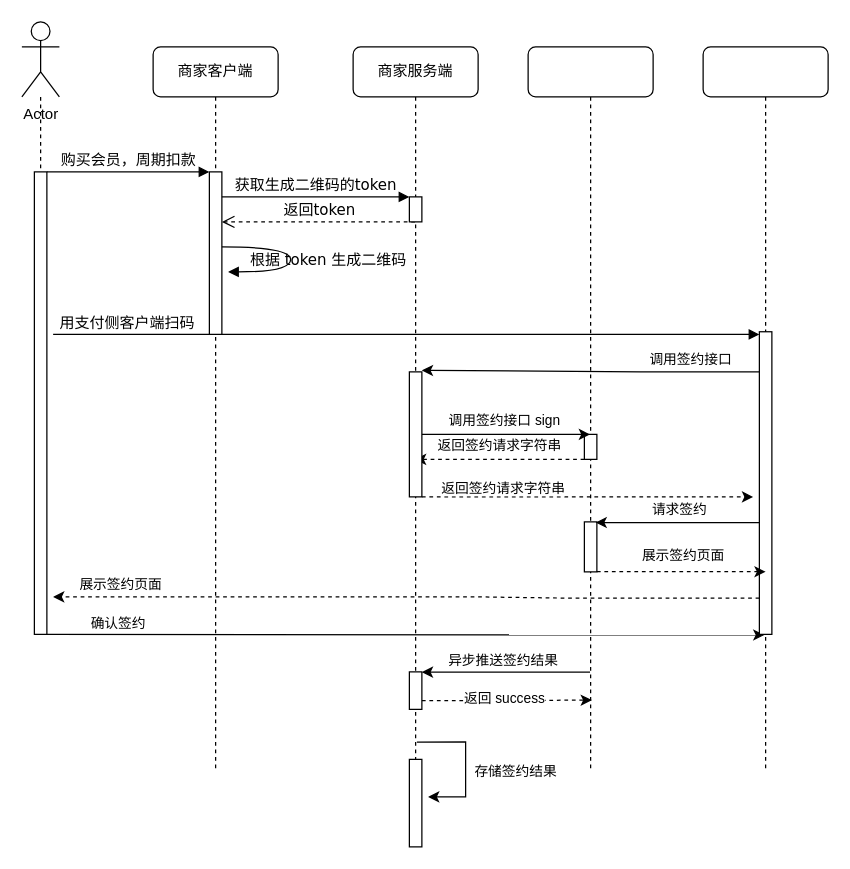
The diagram is 850 pixels wide and 869 high, and some of its shapes have lost their labels. The box of each missing label's shape, as (x1, y1, x2, y2) in pixels:
支付侧客户端: (702, 46, 828, 772)
支付侧服务端: (527, 46, 653, 772)
